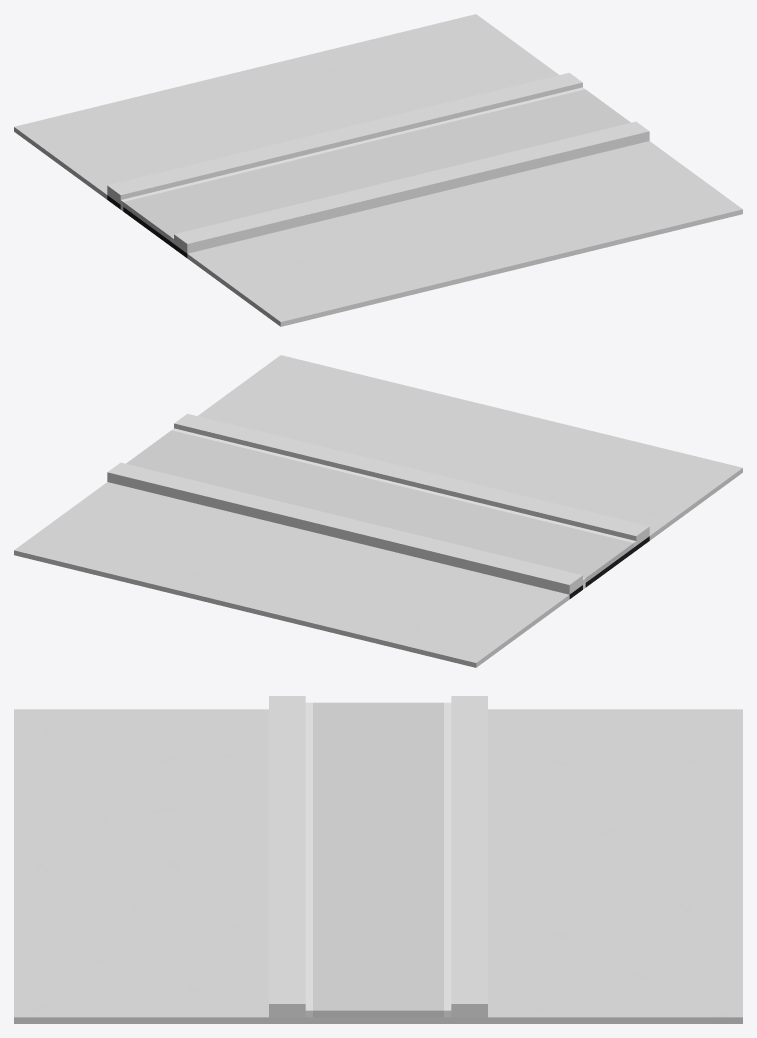
Rendered from path_tile_h.obj.
3 renders of one model, top to bottom at view 1: azimuth 30°, elevation 25°; view 2: azimuth 150°, elevation 25°; view 3: azimuth 270°, elevation 25°, orthographic. The views are drawn at different scales.
Parts seen in each view (by area): view 1: path_tile_h; view 2: path_tile_h; view 3: path_tile_h.
Boxes of the visible parts, x1,y1,x2,y2 form: path_tile_h: (14,14,742,326); path_tile_h: (14,355,742,667); path_tile_h: (14,696,742,1023).
Size of the model in its own units: 10 by 0.3 by 10.
Materials: 1 (1 with a texture image).
